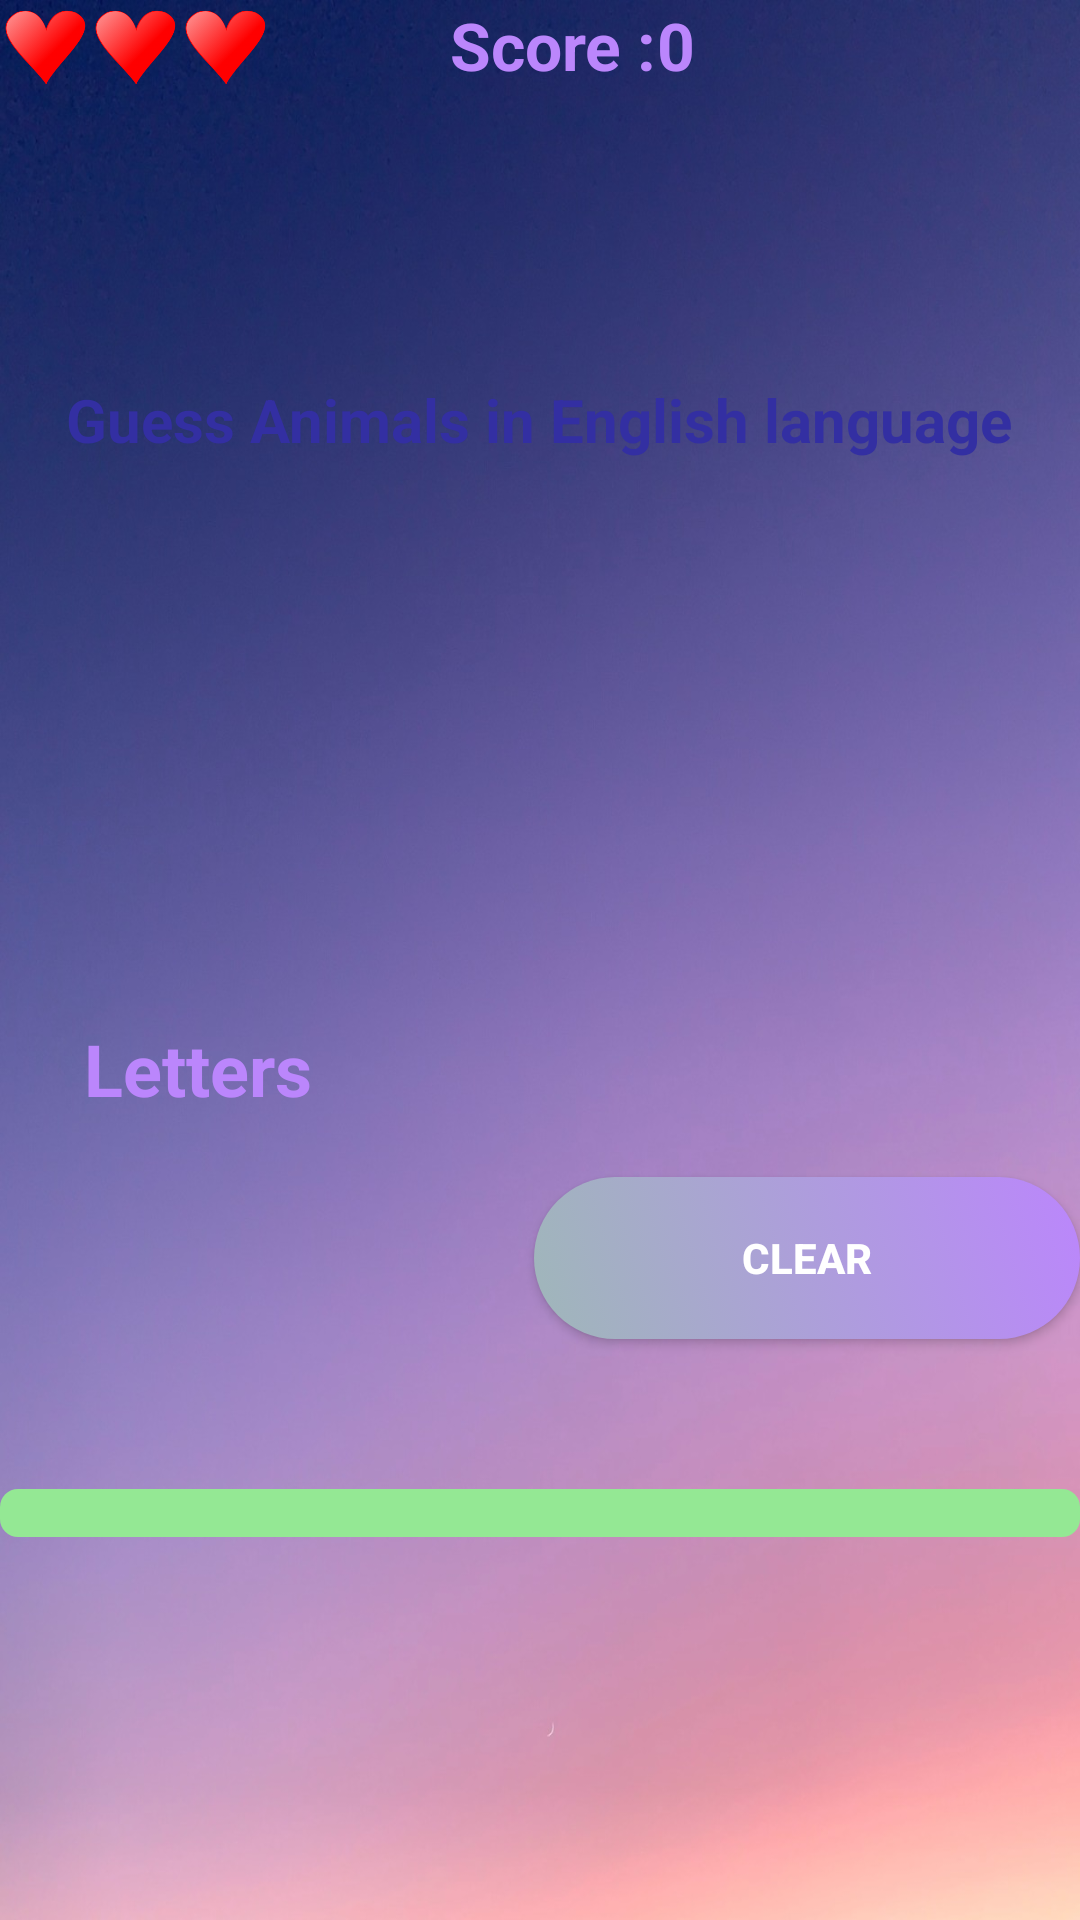

Locate icon controls on the screen. Image size 1080×1920, boxes as bbox=[x1, y1, x2, y2].
heart: bbox=[95, 10, 176, 84], bbox=[5, 11, 86, 84], bbox=[185, 11, 265, 84]
